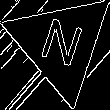N_S: (35, 13, 88, 75)
